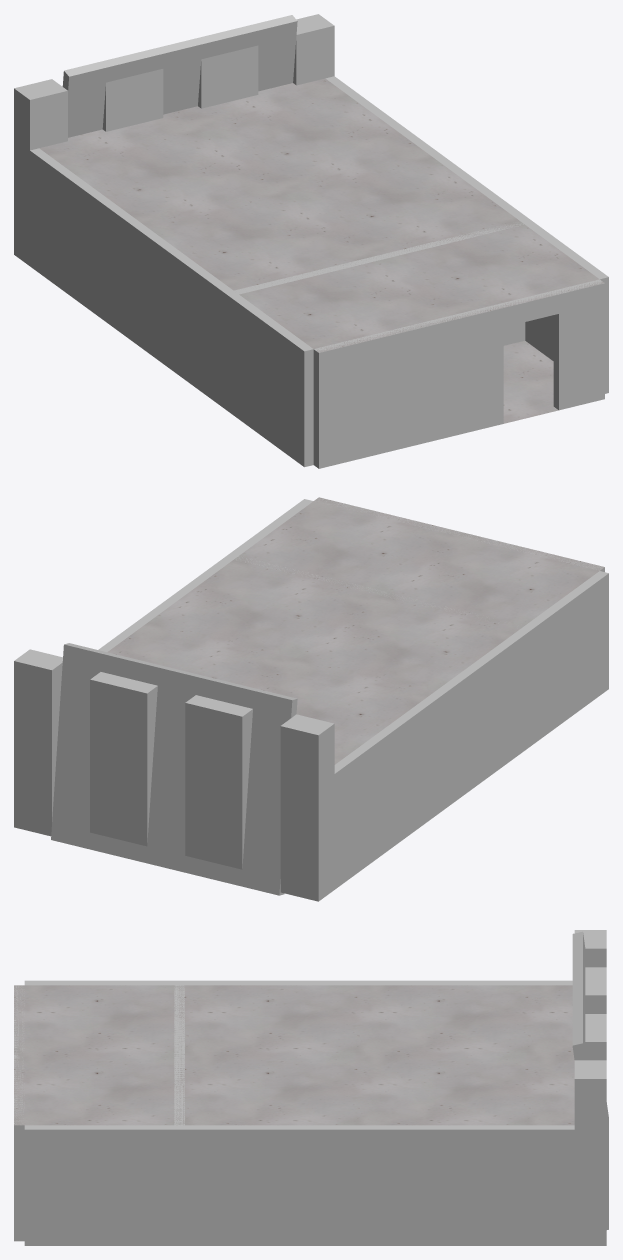
Rendered from LC_room1_archive.gltf.
The picture shows the model from 3 angles, top to bottom: view 1: azimuth 30°, elevation 25°; view 2: azimuth 150°, elevation 25°; view 3: azimuth 270°, elevation 25°; orthographic projection.
Visible parts, largest first — view 1: LC_room1_archive; view 2: LC_room1_archive; view 3: LC_room1_archive.
Part boxes in pixels (<box>): LC_room1_archive: <box>14,14,608,468</box>; LC_room1_archive: <box>14,497,608,901</box>; LC_room1_archive: <box>14,930,608,1245</box>.
Bounding box in the file's own units: 10.56 × 6.24 × 17.83.
